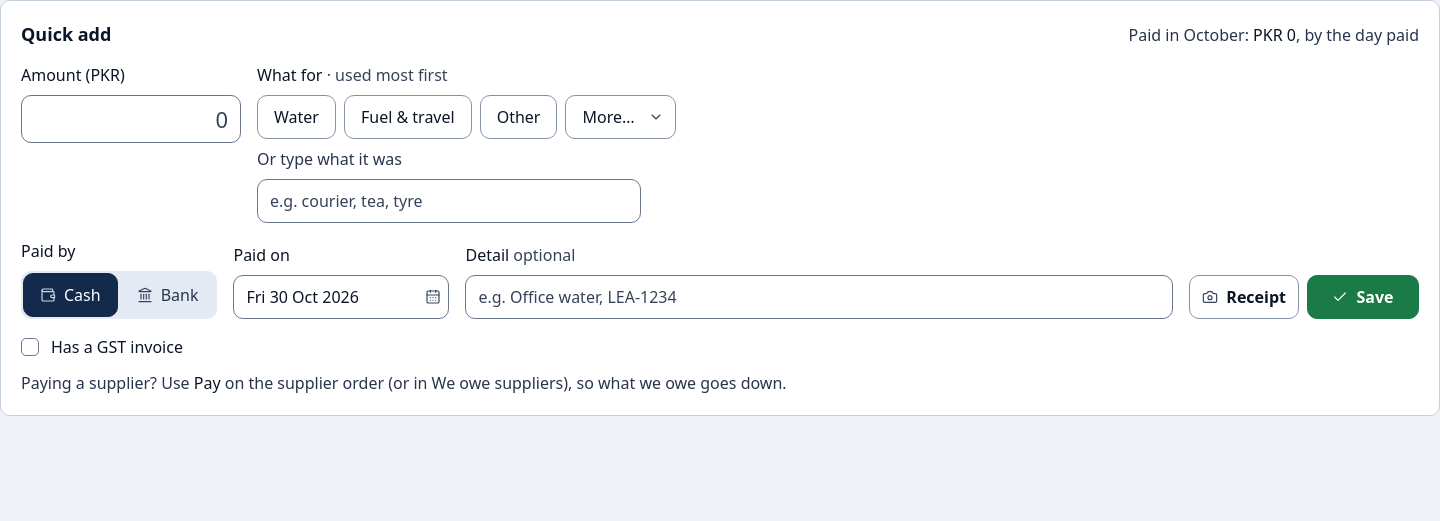
Test case: Quick add: Other › an Other with no title is a field error under Detail, and nothing is sent
The image size is (1440, 521).
In the field labelled "Amount (PKR)": [131, 119] box [21,95,241,143], type "300"
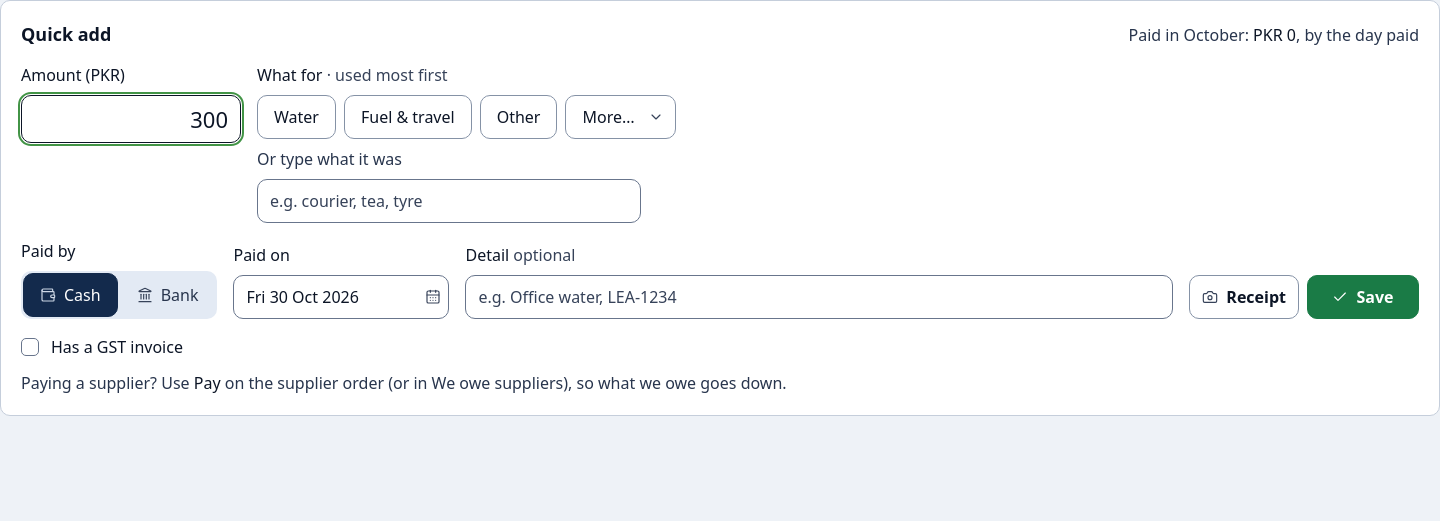
Click the button "Other": [519, 117] box [480,95,558,139]
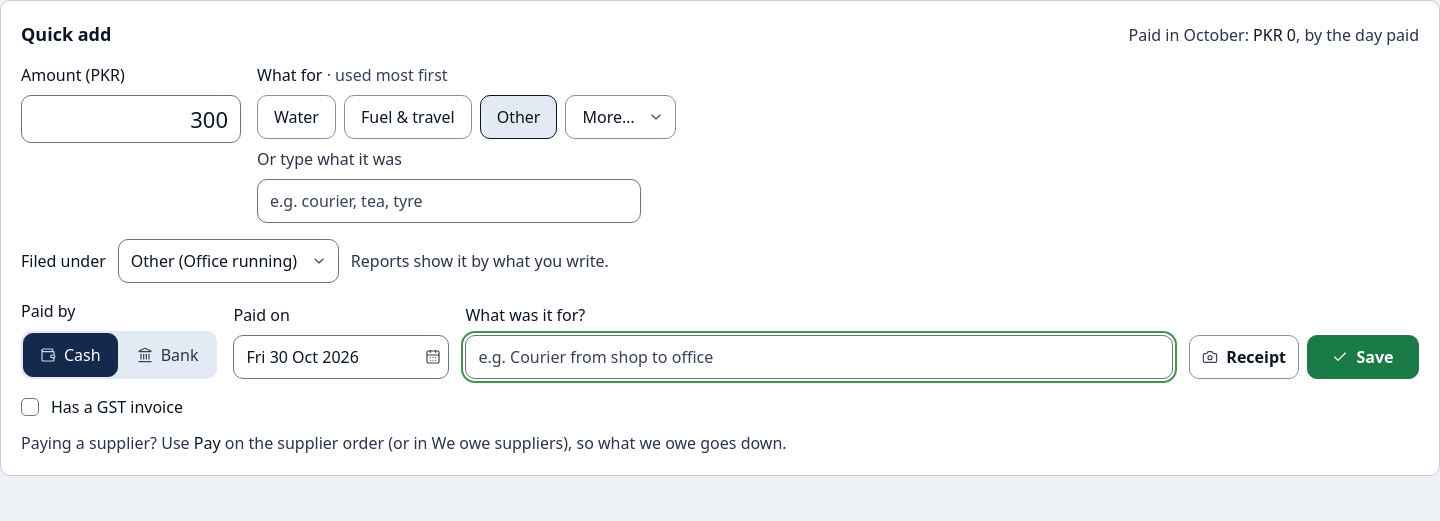
Click the button named "Save this expense": [1363, 357] box [1307,335,1419,379]
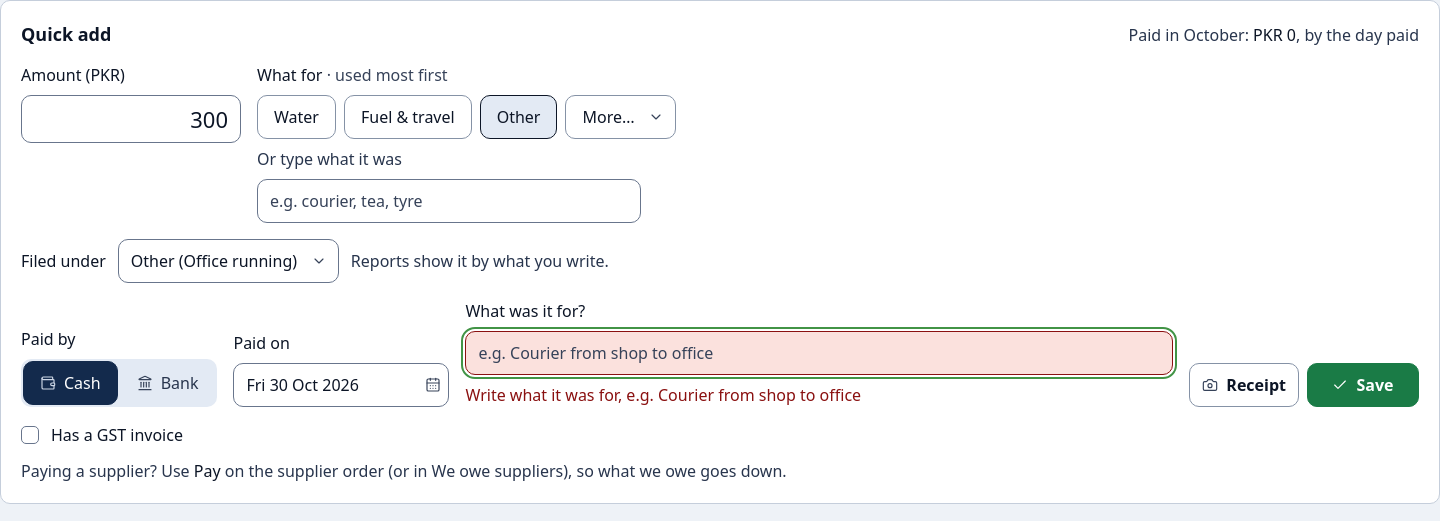
Expected: the text "Write what it was for, e.g. Courier from shop to office" is shown, [466,384,861,406]
